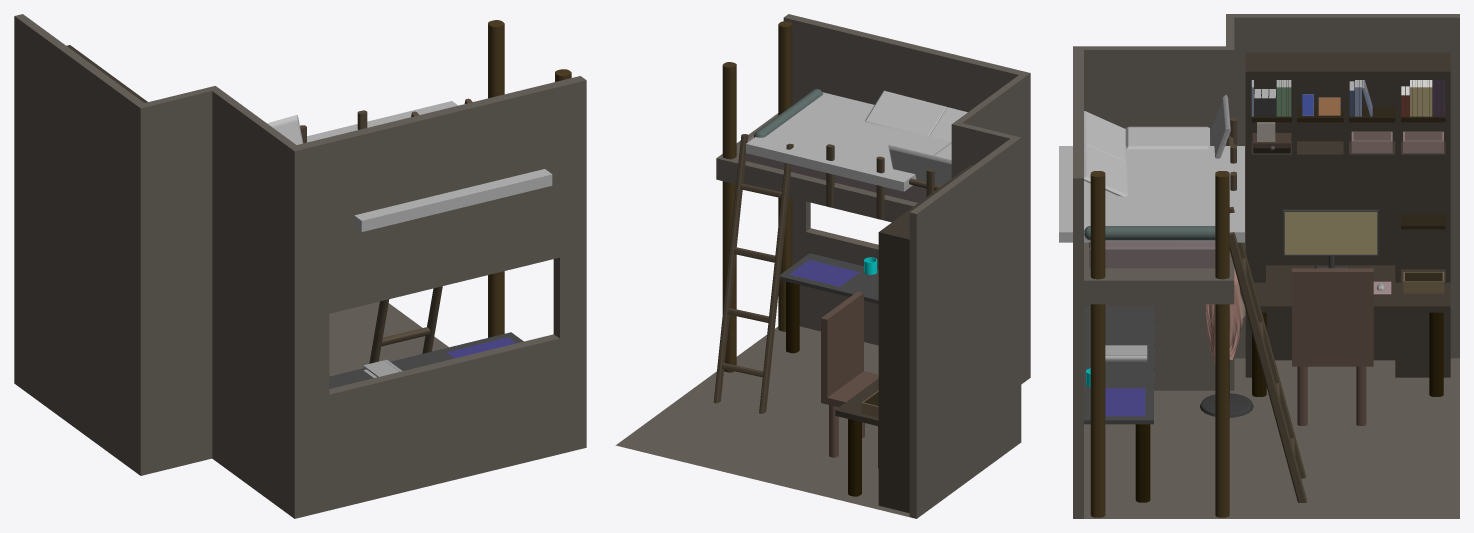
The model's file is Room.fbx.
The picture shows the model from 3 angles, left to right: view 1: azimuth 30°, elevation 25°; view 2: azimuth 150°, elevation 25°; view 3: azimuth 270°, elevation 25°; orthographic projection. The views are drawn at different scales.
Parts seen in each view (by area): view 1: pCube1, pCube13, pCube7, pCube2, pCube9; view 2: pCube1, pCube20, pCube13, pCube2, pCube72, pCube7, pCube8, pCube18, pCube9, pCube11, pCube19, pCube21 (+5 smaller); view 3: pCube1, pCube20, pCube13, pCube72, pCube8, pCube9, pCube7, pCube26, pCube2, pCube11, pCube15, pCylinder1 (+19 smaller).
Boxes of the visible parts, <box> form: pCube1: <box>14,14,586,518</box>; pCube13: <box>307,101,552,231</box>; pCube7: <box>488,20,504,337</box>; pCube2: <box>369,98,472,363</box>; pCube9: <box>329,332,523,388</box>; pCube1: <box>615,14,1030,518</box>; pCube20: <box>835,165,972,512</box>; pCube13: <box>746,92,951,191</box>; pCube2: <box>713,134,793,413</box>; pCube72: <box>821,291,878,407</box>; pCube7: <box>722,62,736,372</box>; pCube8: <box>778,21,792,331</box>; pCube18: <box>865,90,946,136</box>; pCube9: <box>780,253,878,303</box>; pCube11: <box>745,135,926,202</box>; pCube19: <box>888,145,951,185</box>; pCube21: <box>848,419,861,496</box>; pCube1: <box>1073,14,1459,518</box>; pCube20: <box>1245,52,1450,377</box>; pCube13: <box>1059,146,1244,242</box>; pCube72: <box>1292,268,1373,366</box>; pCube8: <box>1090,171,1105,517</box>; pCube9: <box>1084,306,1153,424</box>; pCube7: <box>1215,171,1229,517</box>; pCube26: <box>1283,209,1378,256</box>; pCube2: <box>1229,207,1307,502</box>; pCube11: <box>1089,143,1215,268</box>; pCube15: <box>1125,126,1209,149</box>; pCylinder1: <box>1084,226,1215,240</box>.
Size of the model in its own units: 8.64 by 8.47 by 8.91.
